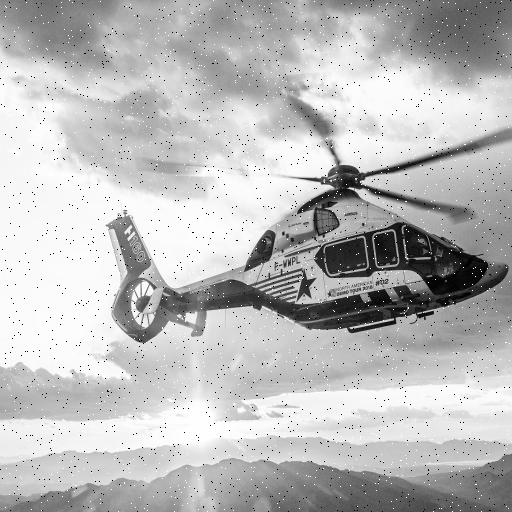helicopter: (92, 89, 512, 347)
